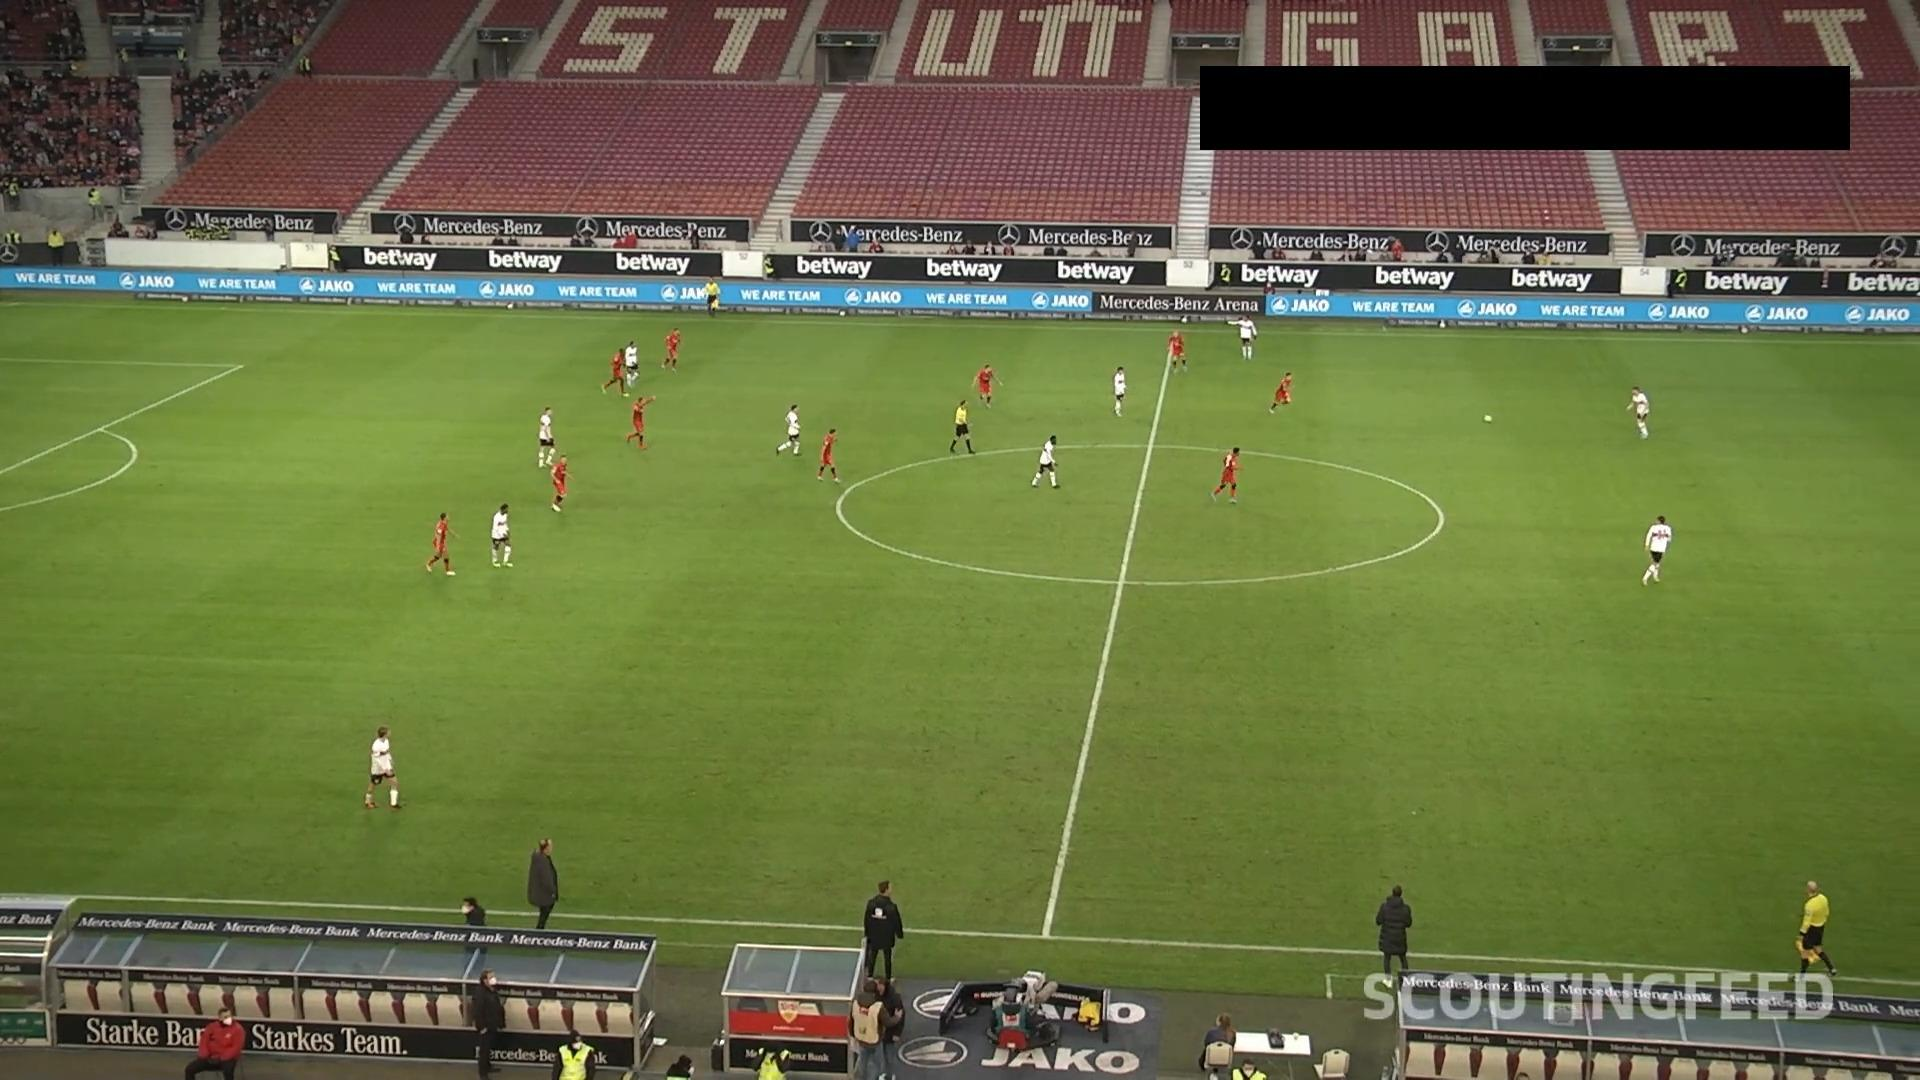ball: (1482, 413, 1493, 423)
